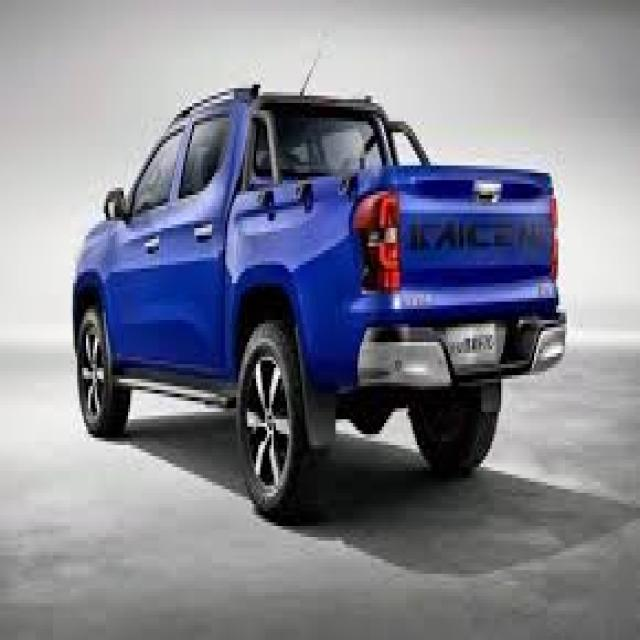Pickup Trucks: (73, 89, 567, 522)
